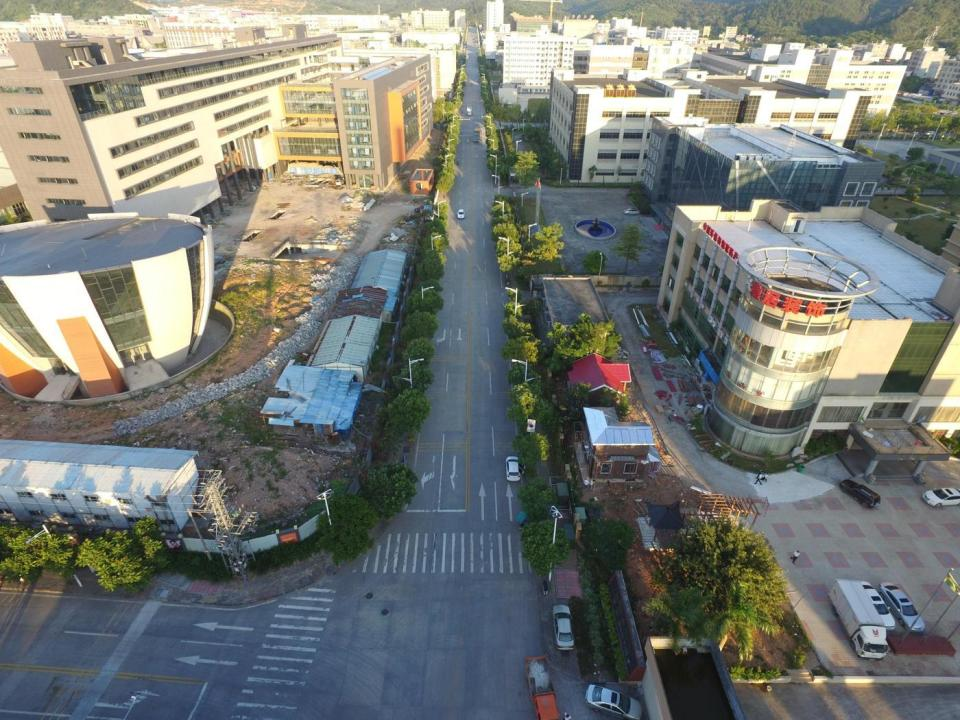bus: (474, 127, 480, 136)
car: (877, 582, 925, 634), (854, 581, 896, 631), (585, 684, 642, 720), (838, 479, 881, 508), (552, 603, 576, 650), (921, 486, 960, 507), (505, 455, 522, 482), (622, 207, 640, 216), (456, 209, 466, 220), (414, 205, 427, 212)
truck: (828, 578, 892, 661), (523, 655, 559, 720), (467, 105, 472, 116), (473, 133, 479, 142)
van: (335, 177, 345, 186)
